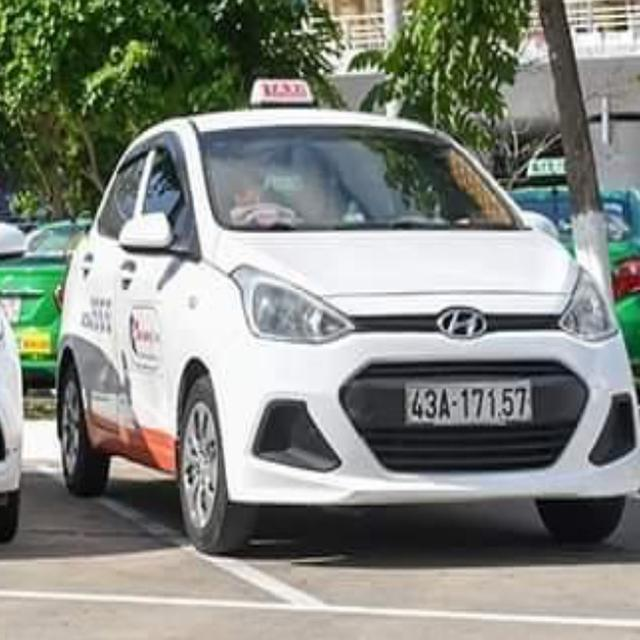car: (43, 103, 638, 583)
plate: (394, 373, 543, 433)
